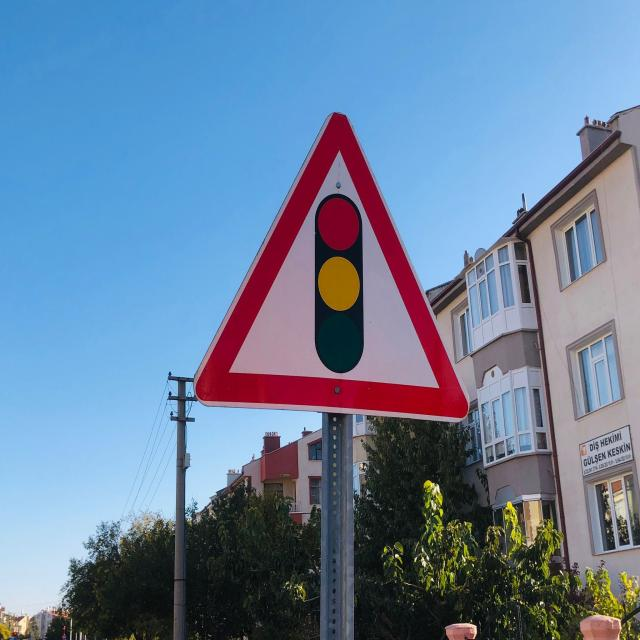light_traffic: (193, 110, 473, 429)
